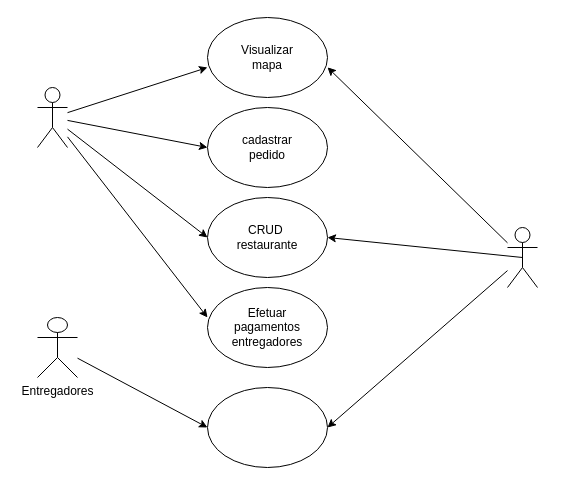
Some shapes in this 577 by 485 pixel diagram are drawn without their labels. The shapes that lost their labels are listed below. From the top down, each one's centre as x and y in pixels, then its label:
At (x=52, y=117): "Restaurantes".
At (x=522, y=257): "Administrador".
At (x=267, y=427): "CRUD entregador".
